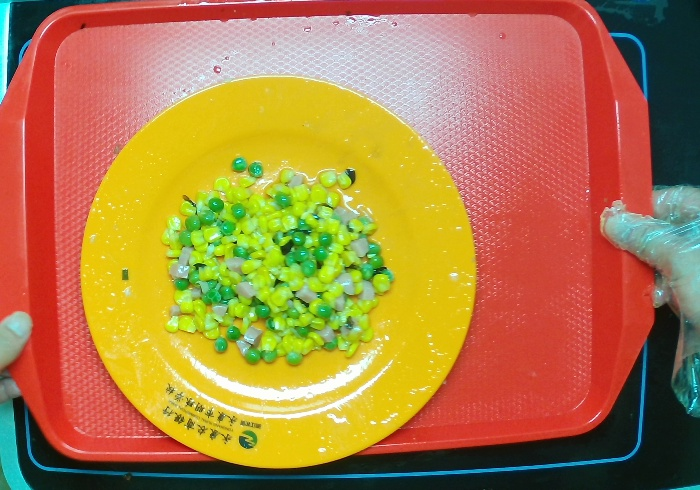YKMZ-Ju_Se_Mian_Pan: (73, 67, 480, 480)
